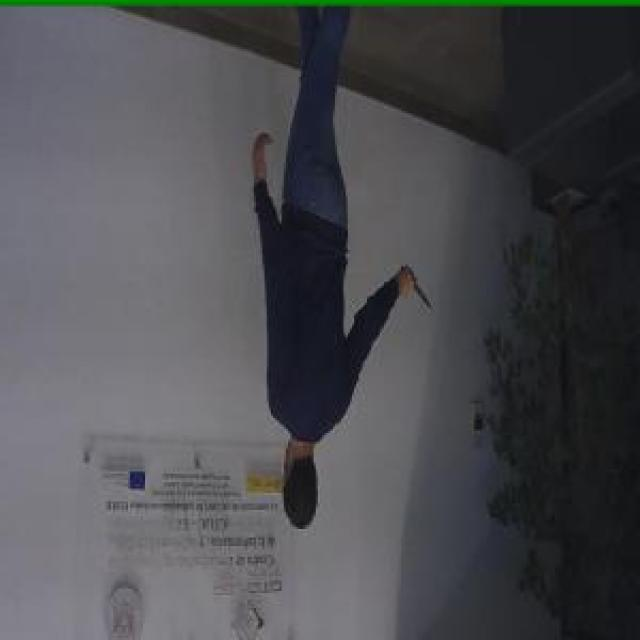knife: (404, 266, 435, 316)
